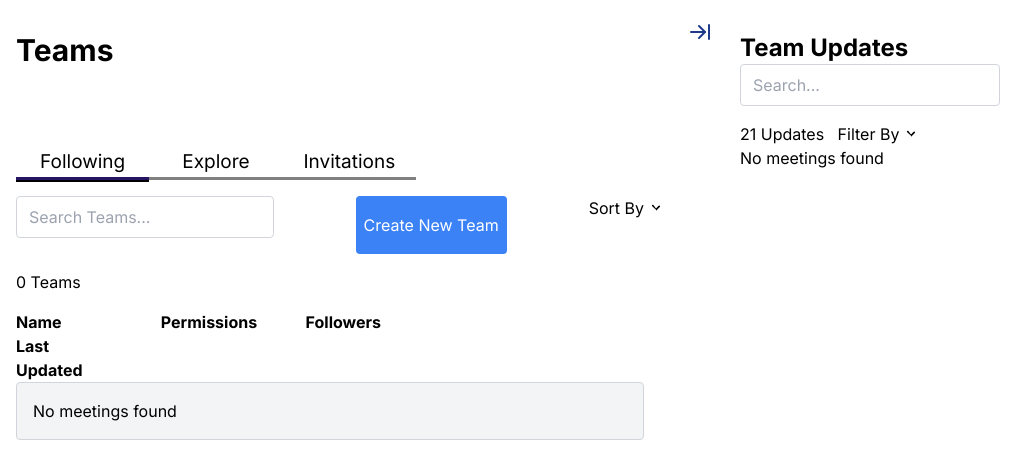
Test: filtering should work generally
Click the button "Sort By". click: {"x": 616, "y": 208}
box: [589,196,644,220]
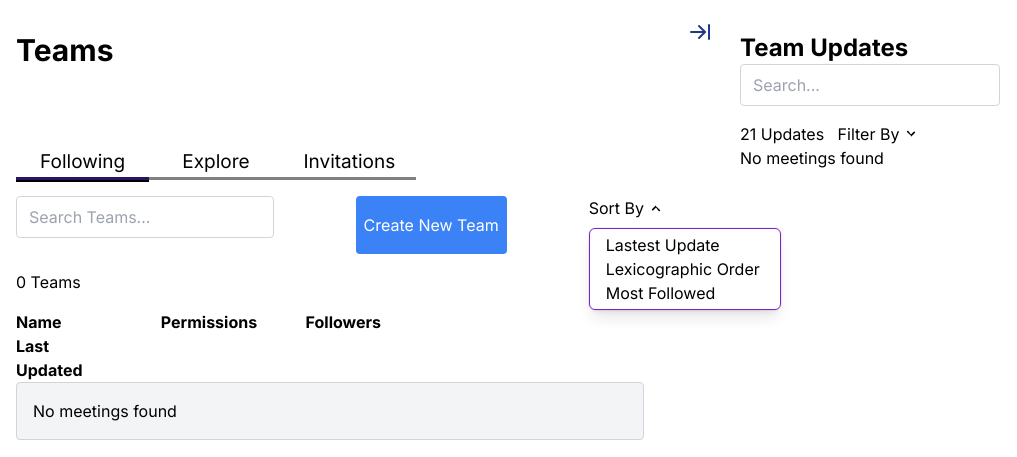
Expected: the text "Lastest Update" is shown, [606,234,720,254]
Expected: the text "Lexicographic Order" is shown, [606,258,760,278]
Expected: the text "Most Followed" is shown, [606,282,715,302]
